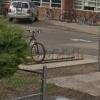Bicycle: (16, 22, 52, 71)
